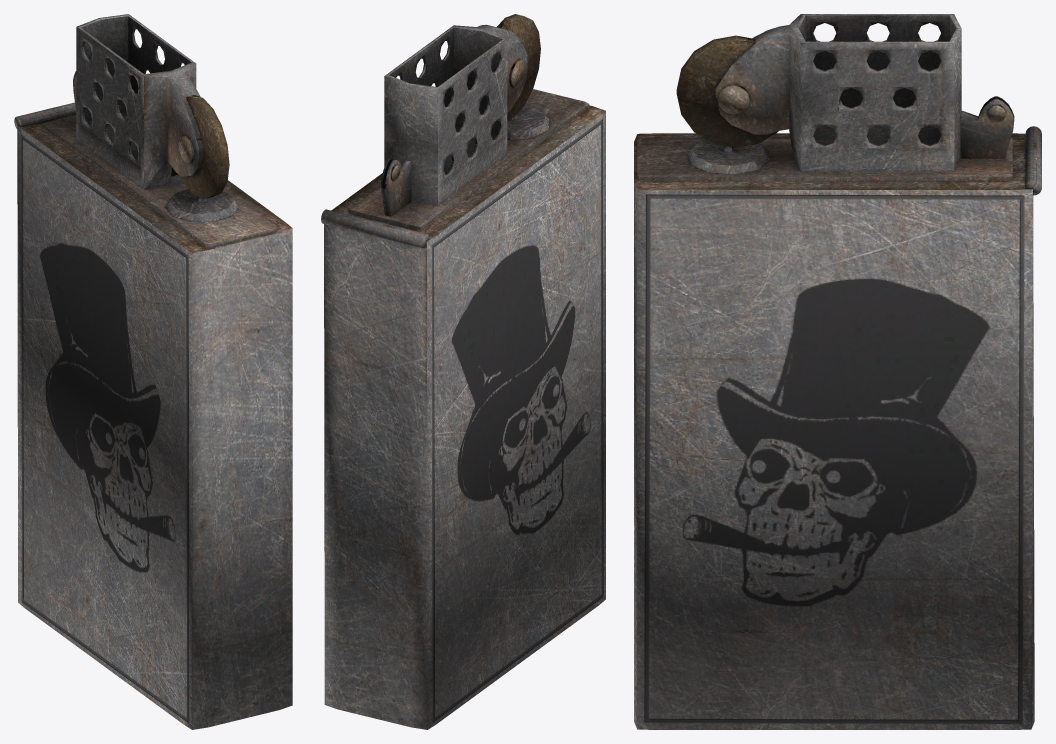
The model's file is Zippo_main.fbx.
3 renders of one model, left to right at view 1: azimuth 30°, elevation 25°; view 2: azimuth 150°, elevation 25°; view 3: azimuth 270°, elevation 25°, orthographic. The views are drawn at different scales.
Visible parts, largest first — view 1: main; view 2: main; view 3: main.
Part boxes in pixels (box(x1,y1,x2,y2)): main: box(14, 14, 292, 729); main: box(321, 14, 605, 729); main: box(634, 14, 1041, 729).
Size of the model in its own units: 0.2033 by 1.13 by 0.621.
